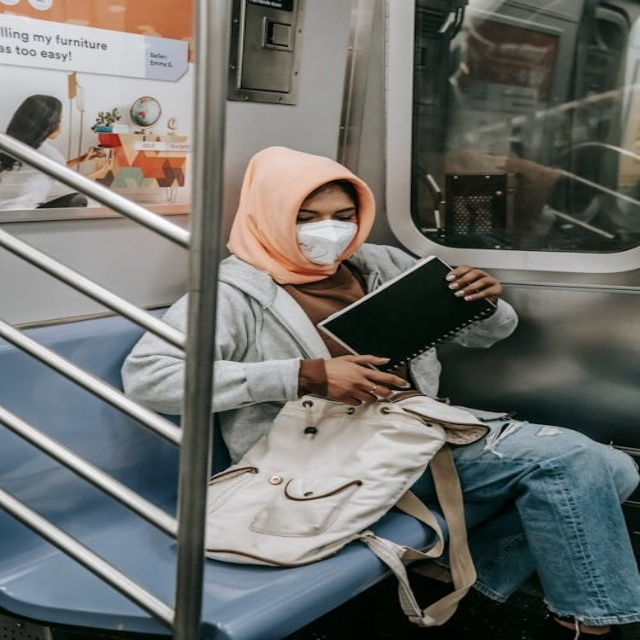Mascara: (294, 220, 359, 265), (46, 122, 62, 139)
Sin_gafas: (294, 203, 360, 224)
Sin_guantes: (319, 347, 421, 415), (445, 260, 507, 302)
